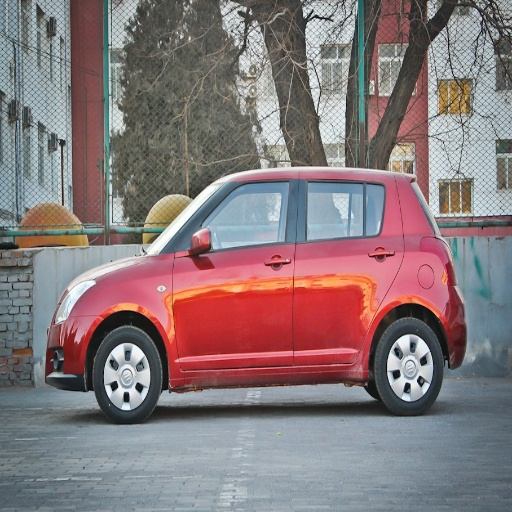back_left_door: (294, 178, 400, 364)
front_left_door: (173, 178, 298, 371)
